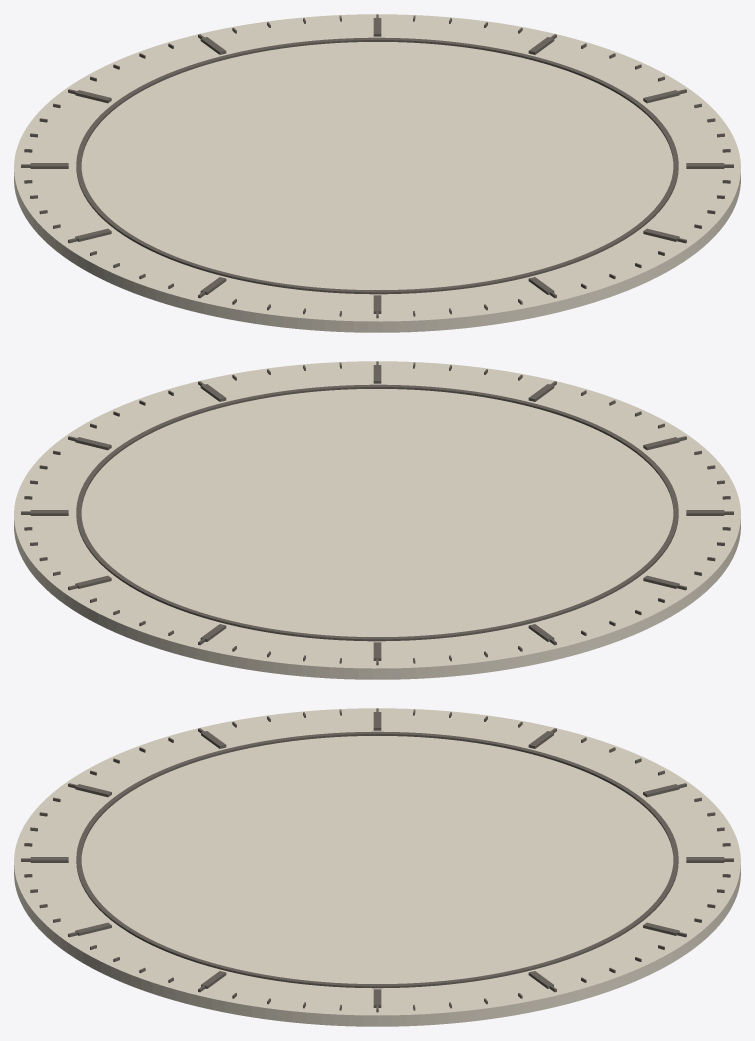
The model's file is dial-nh05-silver-roman-245.glb.
3 renders of one model, top to bottom at view 1: azimuth 30°, elevation 25°; view 2: azimuth 150°, elevation 25°; view 3: azimuth 270°, elevation 25°, orthographic.
Parts seen in each view (by area): view 1: DD_DIAL_SUBSTRATE, DD_DIAL_SECTOR_RING; view 2: DD_DIAL_SUBSTRATE, DD_DIAL_SECTOR_RING; view 3: DD_DIAL_SUBSTRATE, DD_DIAL_SECTOR_RING.
Boxes of the visible parts, box(x1,y1,x2,y2) form: DD_DIAL_SUBSTRATE: box(14, 14, 740, 332); DD_DIAL_SECTOR_RING: box(76, 37, 678, 294); DD_DIAL_SUBSTRATE: box(14, 361, 740, 679); DD_DIAL_SECTOR_RING: box(76, 384, 678, 641); DD_DIAL_SUBSTRATE: box(14, 708, 740, 1026); DD_DIAL_SECTOR_RING: box(76, 731, 678, 988).
Bounding box in the file's own units: 24.5 × 0.54 × 24.5.
